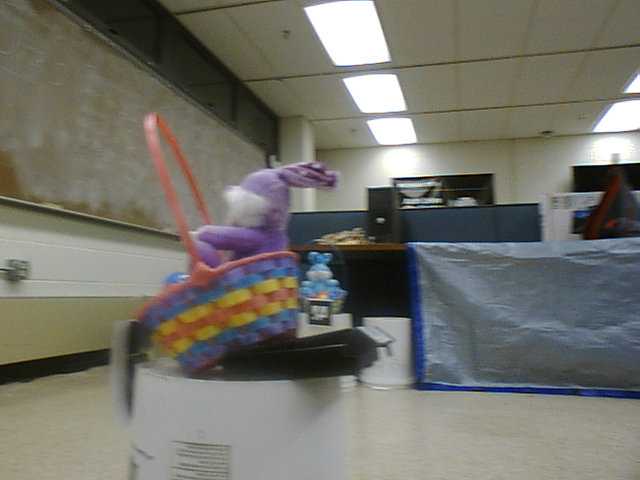bunny: (132, 104, 328, 368), (301, 237, 350, 304)
